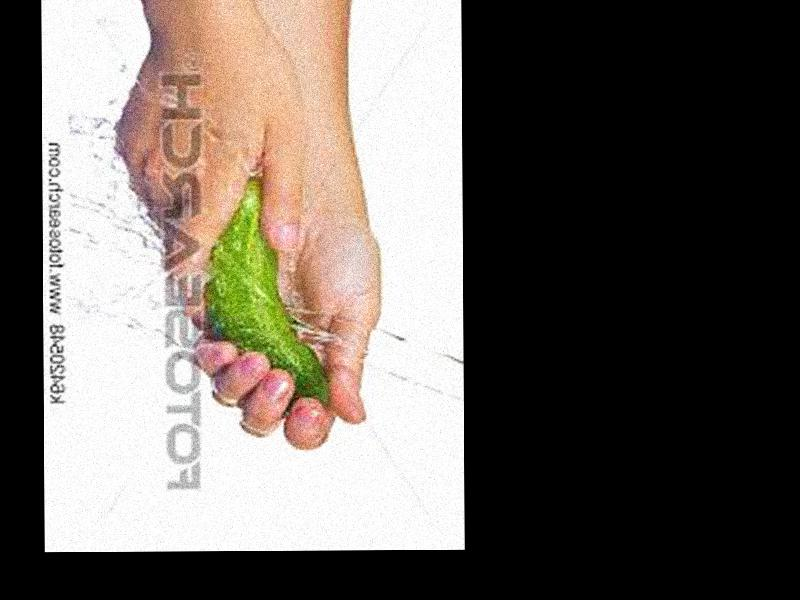Cucumber: (199, 170, 330, 408)
